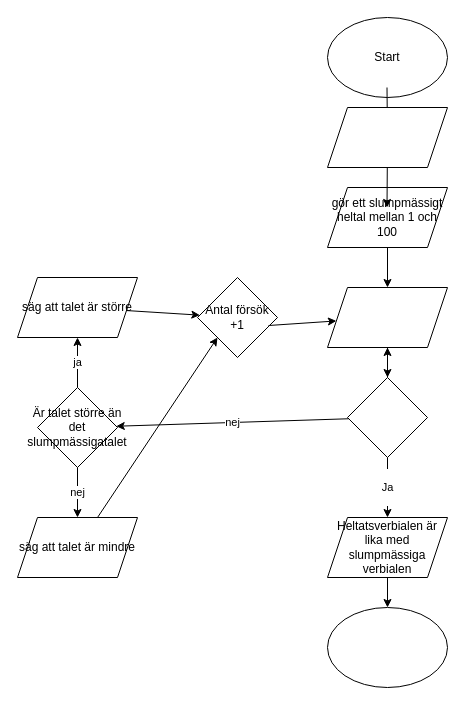
This 465x705 diagram has some shape labels left out. The shapes that lost their labels are listed below. From the top down, each one's centre as x and y in pixels, then its label:
At (387,137): "gör en variebel som räknar hur många gånger man har försökt".
At (387,317): "Inmatning: av heltalsverbial".
At (387,417): "är det slump mässiga talet = heltalsverbialen".
At (387,647): "Stop".
